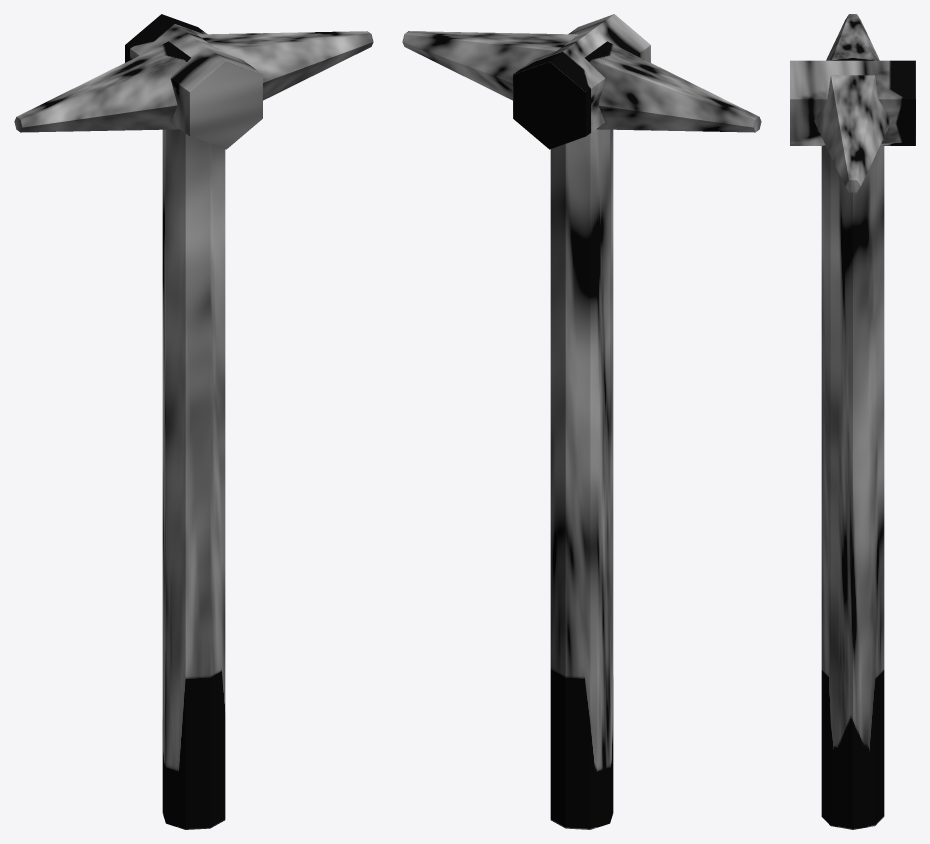
Rendered from pickaxe.glb.
3 renders of one model, left to right at view 1: azimuth 30°, elevation 25°; view 2: azimuth 150°, elevation 25°; view 3: azimuth 270°, elevation 25°, orthographic. The views are drawn at different scales.
Visible parts, largest first — view 1: pickaxe; view 2: pickaxe; view 3: pickaxe.
Part boxes in pixels (left/top/right/bottom): pickaxe: left=14, top=14, right=373, bottom=829; pickaxe: left=402, top=14, right=761, bottom=829; pickaxe: left=790, top=14, right=915, bottom=829.
Size of the model in its own units: 0.25 by 0.53 by 0.08.
Materials: 1 (1 with a texture image).
